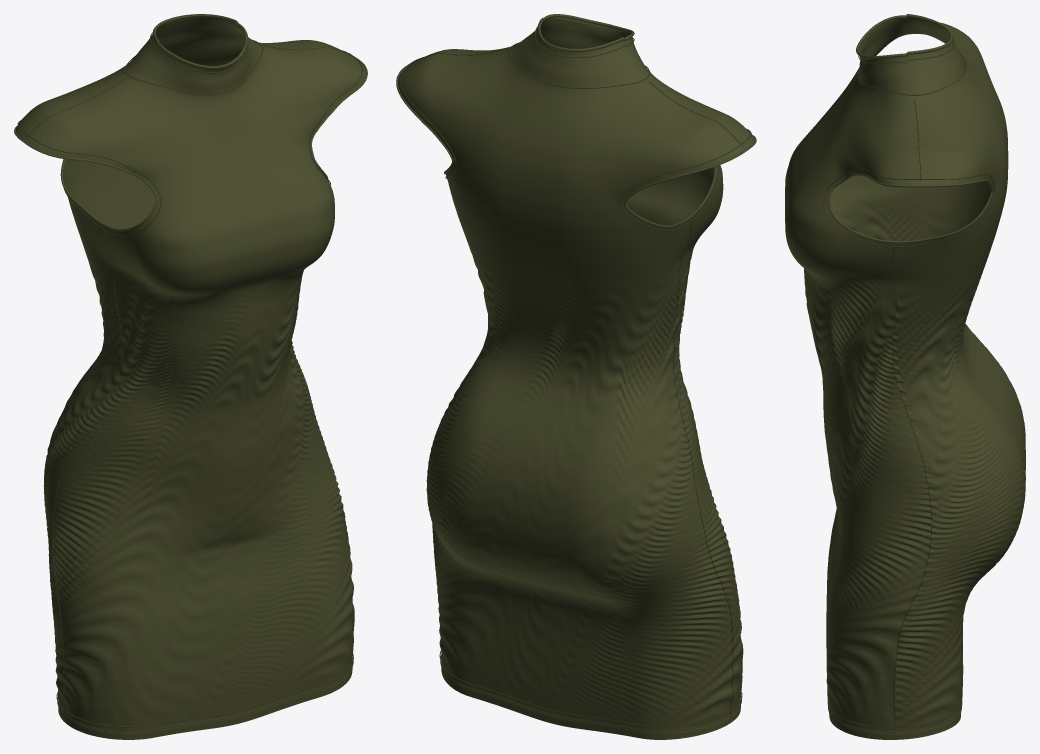
Rendered from vestido-mini-firerie_XS.glb.
3 views of the same model, side by side, from view 1: azimuth 30°, elevation 25°; view 2: azimuth 150°, elevation 25°; view 3: azimuth 270°, elevation 25° (orthographic). The views are drawn at different scales.
Parts seen in each view (by area): view 1: vestido, canesu, sisa-borde, cuello-borde, pespunte; view 2: vestido, canesu, sisa-borde, cuello-borde, pespunte; view 3: vestido, canesu, pespunte (×2), sisa-borde, cuello-borde.
Part boxes in pixels (box(x1,y1,x2,y2)): vestido: box(43, 159, 354, 739); canesu: box(16, 14, 366, 199); sisa-borde: box(14, 126, 158, 231); cuello-borde: box(152, 14, 248, 68); pespunte: box(51, 227, 123, 719); vestido: box(426, 162, 743, 739); canesu: box(398, 14, 754, 203); sisa-borde: box(624, 135, 756, 227); cuello-borde: box(537, 14, 634, 51); pespunte: box(673, 218, 734, 718); vestido: box(785, 126, 1025, 739); canesu: box(811, 14, 1007, 189); pespunte (×2): box(823, 168, 994, 736); sisa-borde: box(828, 173, 992, 243); cuello-borde: box(856, 14, 952, 58).
Bounding box in the file's own units: 0.4454 × 0.8411 × 0.2824.
